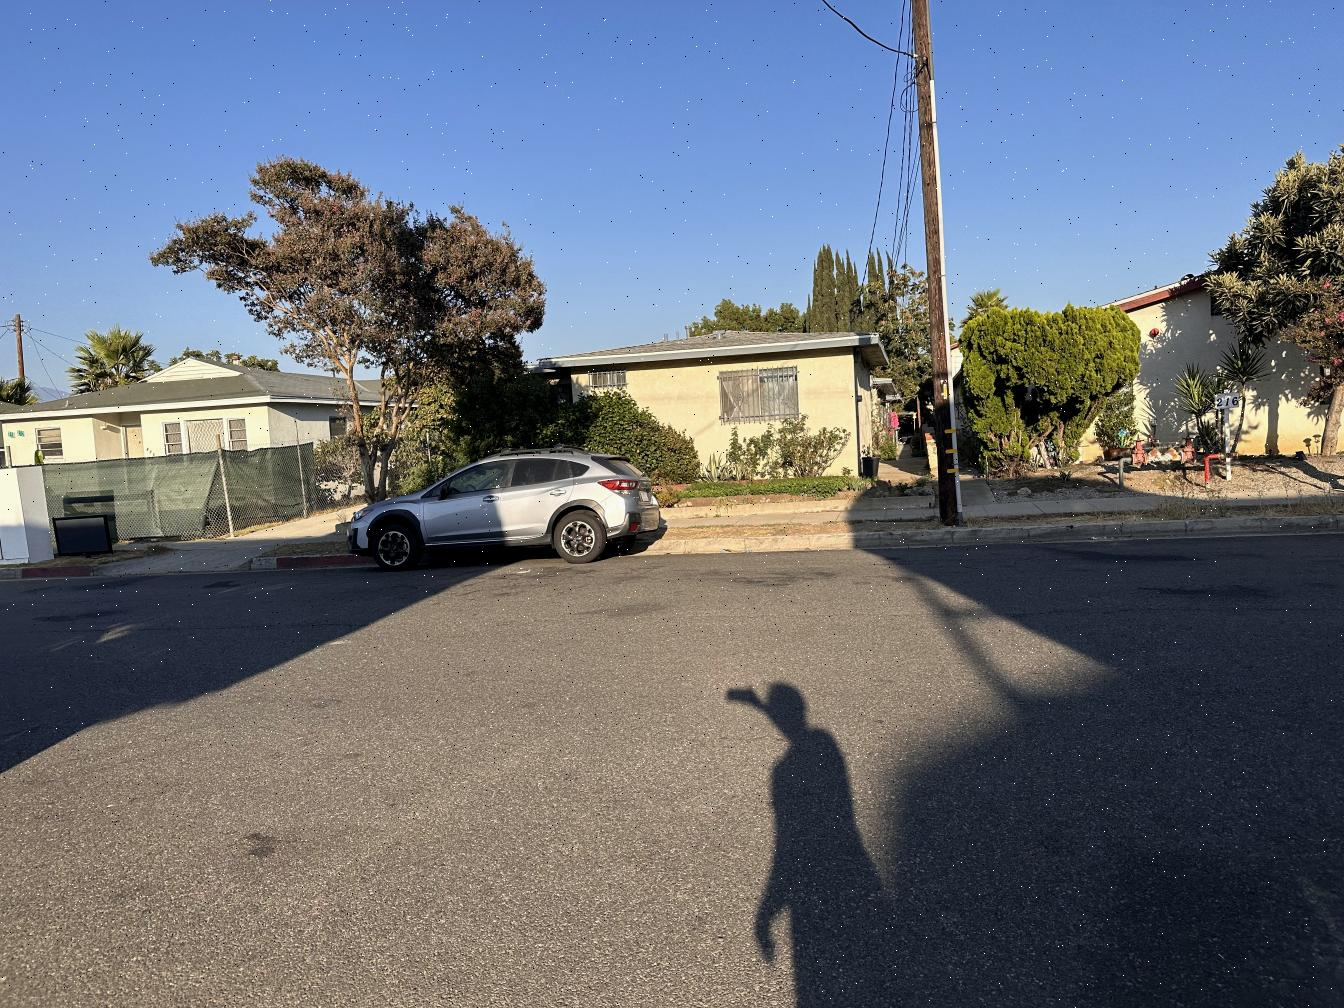curbs-laRr: (975, 515, 1342, 546), (672, 526, 969, 556)
